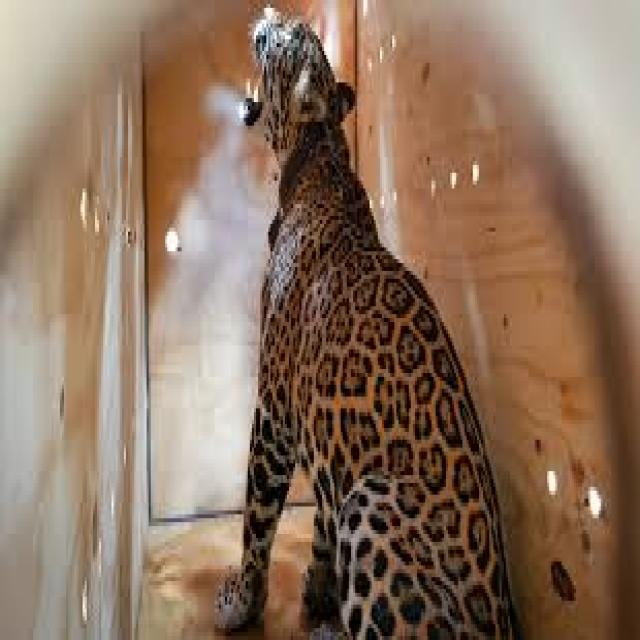Jaguar: (213, 0, 522, 640)
